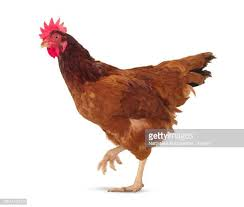nontarget: (35, 13, 211, 199)
